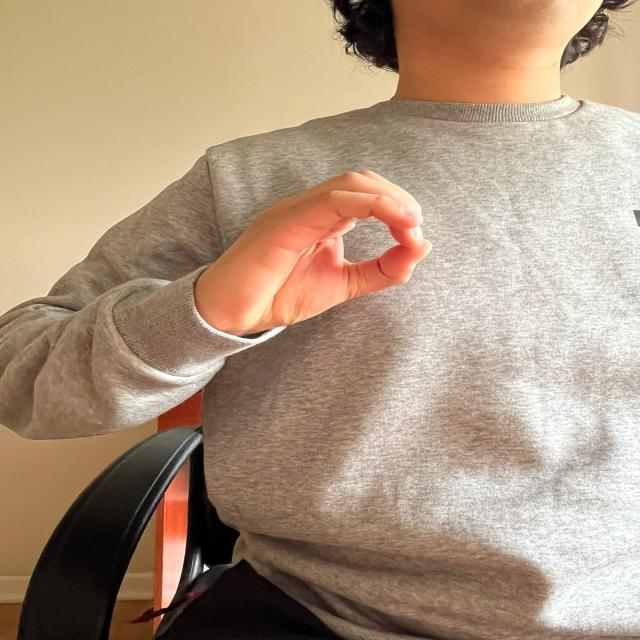O: (200, 164, 432, 341)
